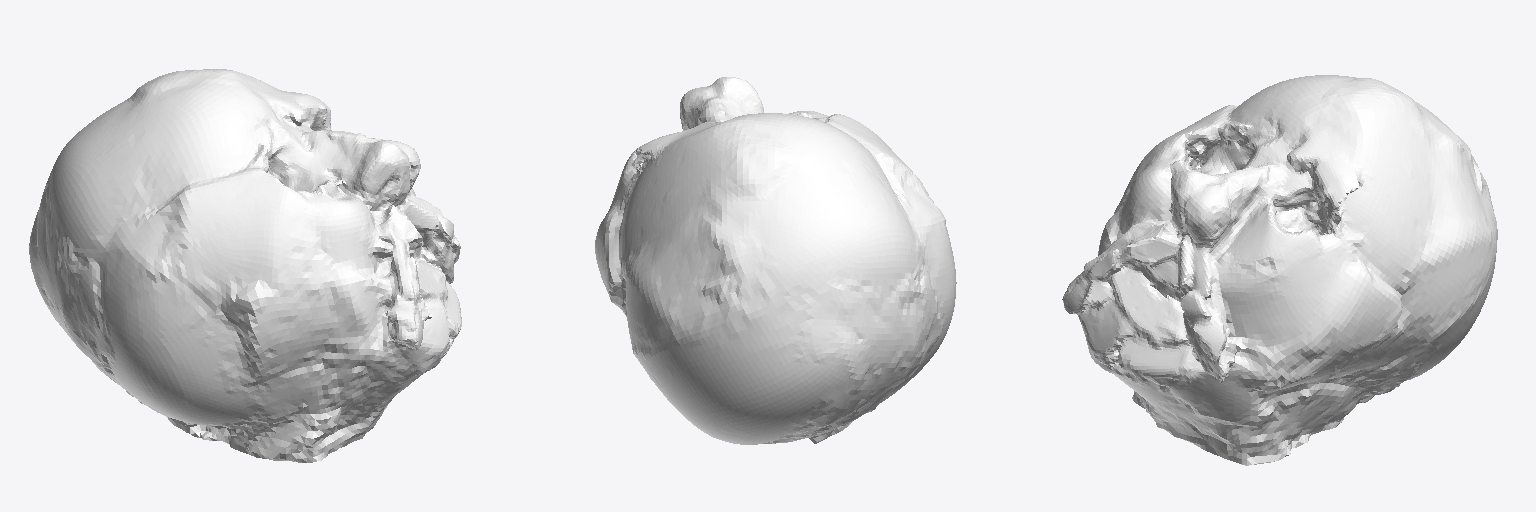
Rendered from SaH_OurBricks_Bornholm_Snowman_20K.obj.
3 renders of one model, left to right at view 1: azimuth 30°, elevation 25°; view 2: azimuth 150°, elevation 25°; view 3: azimuth 270°, elevation 25°, orthographic.
Parts seen in each view (by area): view 1: Snowman_Quad_20K; view 2: Snowman_Quad_20K; view 3: Snowman_Quad_20K.
Boxes of the visible parts, x1=… form: Snowman_Quad_20K: x1=29, y1=69, x2=461, y2=462; Snowman_Quad_20K: x1=595, y1=77, x2=956, y2=444; Snowman_Quad_20K: x1=1062, y1=75, x2=1497, y2=465.
Bounding box in the file's own units: 275 × 246 × 304.